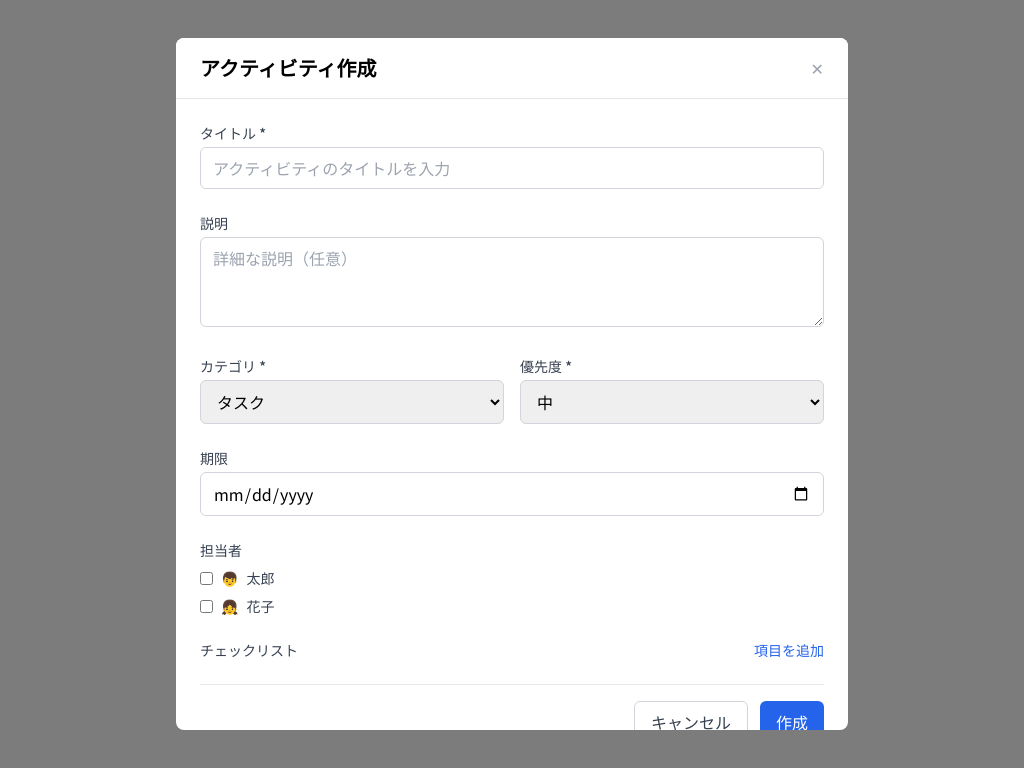
it: ActivityForm › form interactions › should handle all day toggle
This screenshot has width=1024, height=768.
Select "イベント" in the dropdown labelled "カテゴリ *" at [352, 402], box top-left (200, 380), bottom-right (504, 424)
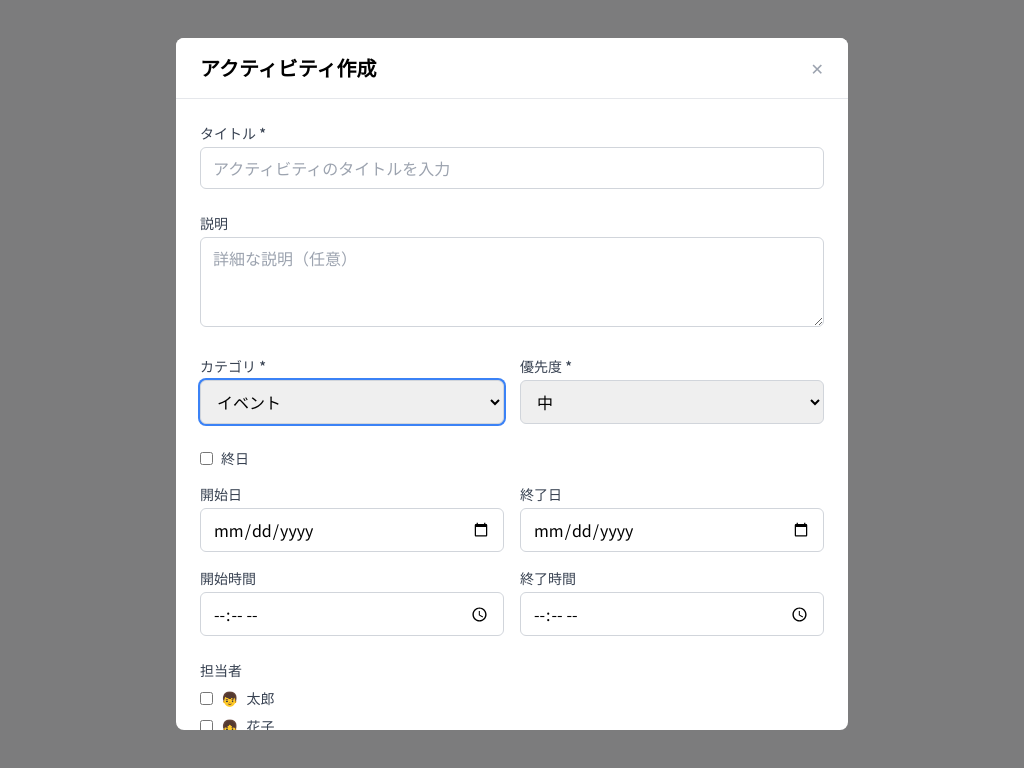
Now the time field labelled "開始時間" is shown, box top-left (200, 592), bottom-right (504, 636)
Click the checkbox labelled "終日" at [206, 458], box top-left (200, 452), bottom-right (213, 465)
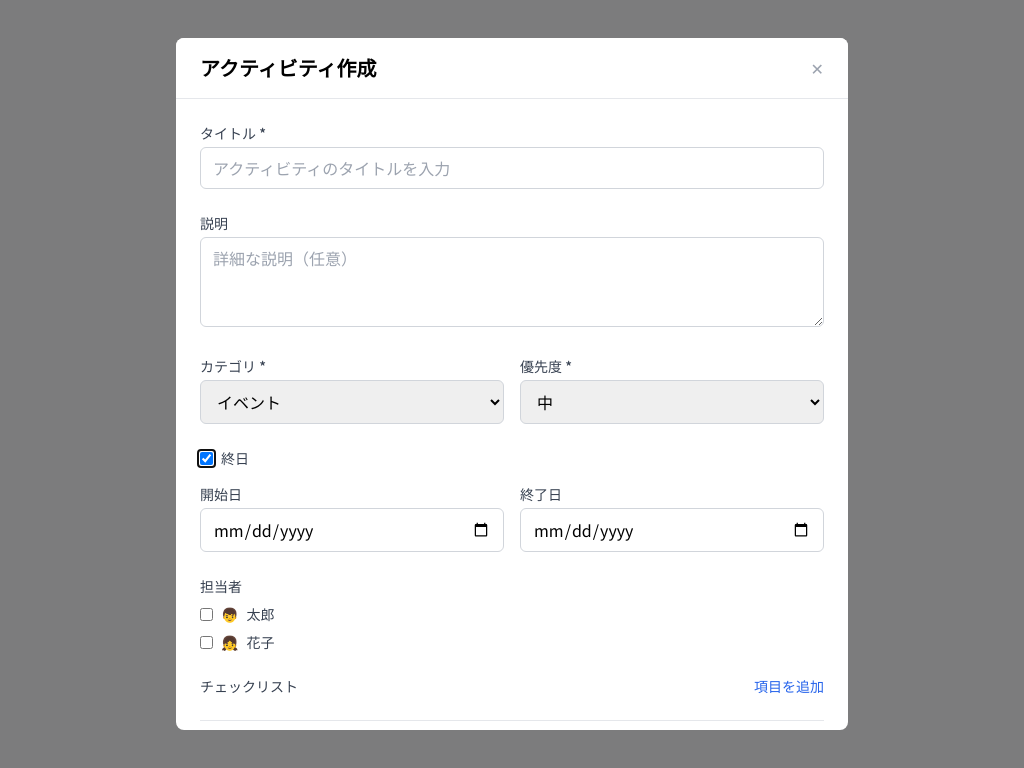
Now the checkbox labelled "終日" is checked, box top-left (200, 452), bottom-right (213, 465)
Now the label labelled "開始時間" is gone
